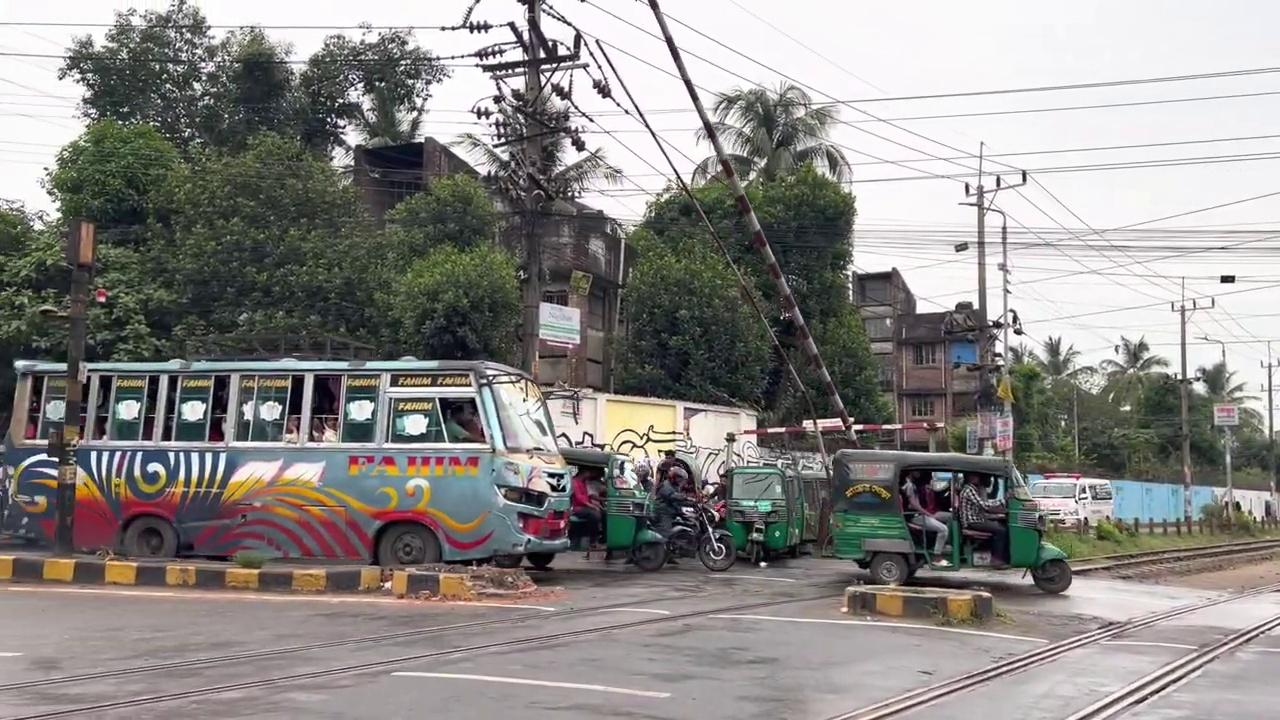Car: (1, 551, 554, 607)
Fence: (900, 469, 953, 567), (957, 471, 1010, 568)
Garbage: (646, 0, 862, 449), (50, 216, 96, 555)
Motorcycle: (826, 579, 1278, 718)
Rickshaw: (1, 354, 575, 568)
